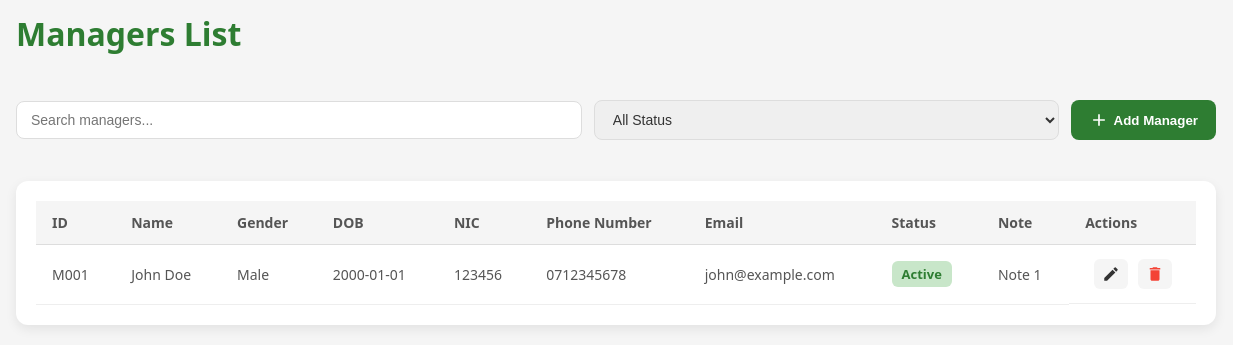
ManagersList › filters by status
Expected: the text "John Doe" is shown, [115,244,221,304]
Select "Inactive" in the dropdown showing "All Status" at (826, 120), box [594,100,1059,140]
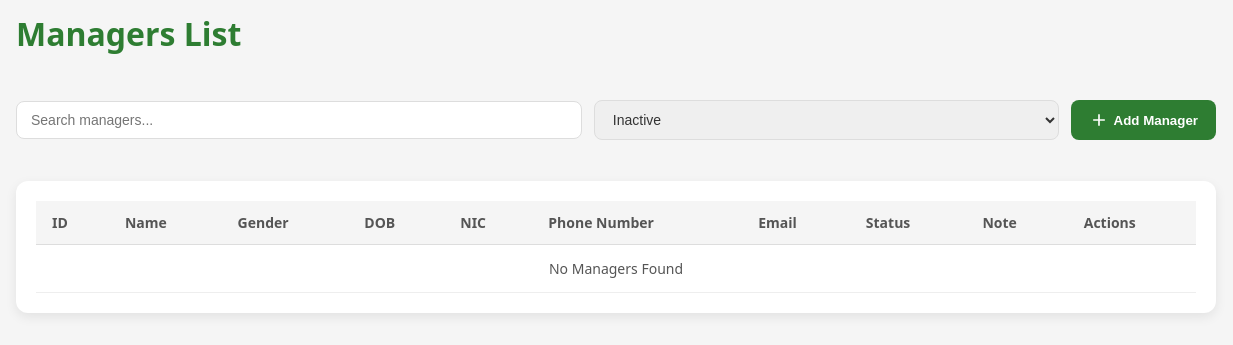
Expected: the text "John Doe" is gone
